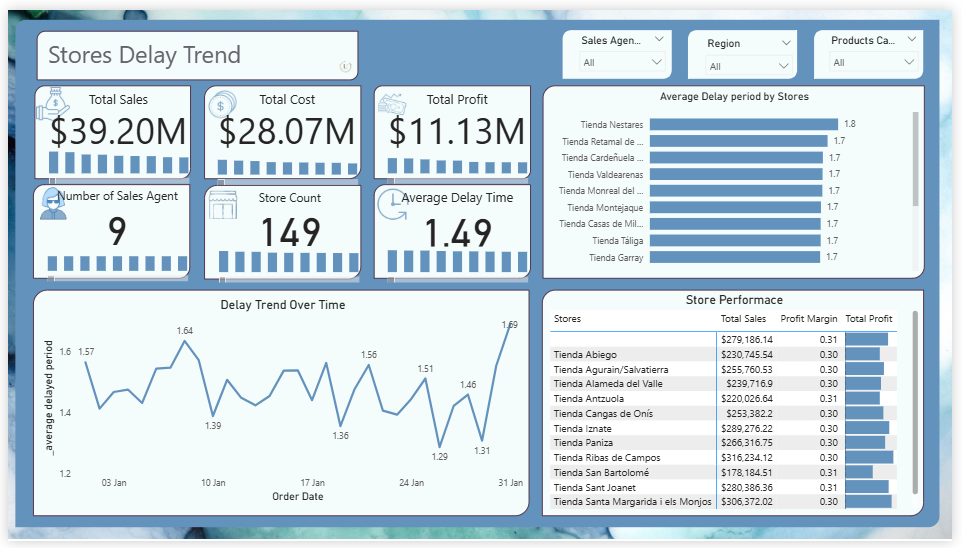

What the dashboard file says about the page in this screenshot:
{"tool":"powerbi","page":{"name":"3","canvas":[1280,720],"ordinal":2},"visuals":[{"type":"textbox","box":[49.5,31.7,427.1,59.1],"z":0},{"type":"card","title":"Total Sales","fields":{"Values":["Sales Tiendas San Martin Janu#4._total sales"]},"box":[49.5,107.7,201.5,83.2],"z":1000},{"type":"clusteredColumnChart","fields":{"Category":["Products.Products"],"Y":["Sales Tiendas San Martin Janu#4._total sales"]},"box":[50.7,177.7,200.3,62.7],"z":2000},{"type":"card","title":"Total Cost","fields":{"Values":["Sales Tiendas San Martin Janu#4._total cost"]},"box":[278.6,109,201.5,83.2],"z":3000},{"type":"clusteredColumnChart","fields":{"Category":["Products.Products"],"Y":["Sales Tiendas San Martin Janu#4._total cost"]},"box":[279.8,179,200.3,62.7],"z":4000},{"type":"card","title":"Number of Sales Agent","fields":{"Values":["Count(Sales Agents.Sales Agent Name)"]},"box":[47.9,240.3,201.5,83.2],"z":5000},{"type":"clusteredColumnChart","fields":{"Category":["Products.Products"],"Y":["Sales Tiendas San Martin Janu#4._profit margin"]},"box":[49.1,310.3,200.3,62.7],"z":6000},{"type":"card","title":"Store Count","fields":{"Values":["Count(Stores.Stores)"]},"box":[281.1,241.6,201.5,83.2],"z":7000},{"type":"clusteredColumnChart","fields":{"Category":["Products.Products"],"Y":["Sales Tiendas San Martin Janu#4._average delayed period"]},"box":[280.8,311.2,200.3,62.7],"z":8000},{"type":"card","title":"Total Profit","fields":{"Values":["Sales Tiendas San Martin Janu#4._total profit"]},"box":[508.3,108.1,201.5,83.2],"z":9000},{"type":"clusteredColumnChart","fields":{"Category":["Products.Products"],"Y":["Sales Tiendas San Martin Janu#4._total profit"]},"box":[509.5,178,200.3,62.7],"z":10000},{"type":"card","title":"Average Delay Time","fields":{"Values":["Sales Tiendas San Martin Janu#4._average delayed period"]},"box":[508.3,242.2,201.5,83.2],"z":11000},{"type":"clusteredColumnChart","fields":{"Category":["Products.Products"],"Y":["Sales Tiendas San Martin Janu#4._avg unit price"]},"box":[509.5,312.2,200.3,62.7],"z":12000},{"type":"slicer","fields":{"Values":["Products.Products Category"]},"box":[1103.9,26.9,141.2,63.9],"z":13000},{"type":"slicer","fields":{"Values":["Locations.Region"]},"box":[935,31.7,138.7,59.1],"z":14000},{"type":"slicer","fields":{"Values":["Sales Agents.Sales Agent Name"]},"box":[763.7,26.9,137.5,63.9],"z":15000},{"type":"lineChart","title":"Delay Trend Over Time","fields":{"Category":["Sales Tiendas San Martin Janu#4.Order Date"],"Y":["Sales Tiendas San Martin Janu#4._average delayed period"]},"box":[41.6,389.6,661,283.1],"z":16000},{"type":"pivotTable","title":"Store Performace","fields":{"Rows":["Stores.Stores"],"Values":["Sales Tiendas San Martin Janu#4._total sales","Sales Tiendas San Martin Janu#4._profit margin","Sales Tiendas San Martin Janu#4._total profit"]},"box":[729.9,383.1,509.1,298.7],"z":17000},{"type":"clusteredBarChart","title":"Average Delay period by Stores","fields":{"Category":["Stores.Stores"],"Y":["Sales Tiendas San Martin Janu#4._average delayed period"]},"box":[729.9,109.1,509.1,250.6],"z":18000},{"type":"card","fields":{"Values":["Customers._bottom customer name"]},"box":[263.6,311.7,300,300],"z":19000}]}

Visuals, with their boxes in screenshot pixels (x1, y1, x2, y2), scaled from the page's 1280x720 canvas onto the 962x548 screenshot:
textbox: x1=37 y1=24 x2=358 y2=69
"Total Sales" card: x1=37 y1=82 x2=189 y2=145
clusteredColumnChart - Products.Products x Sales Tiendas San Martin Janu#4._total sales: x1=38 y1=135 x2=189 y2=183
"Total Cost" card: x1=209 y1=83 x2=361 y2=146
clusteredColumnChart - Products.Products x Sales Tiendas San Martin Janu#4._total cost: x1=210 y1=136 x2=361 y2=184
"Number of Sales Agent" card: x1=36 y1=183 x2=187 y2=246
clusteredColumnChart - Products.Products x Sales Tiendas San Martin Janu#4._profit margin: x1=37 y1=236 x2=187 y2=284
"Store Count" card: x1=211 y1=184 x2=363 y2=247
clusteredColumnChart - Products.Products x Sales Tiendas San Martin Janu#4._average delayed period: x1=211 y1=237 x2=362 y2=285
"Total Profit" card: x1=382 y1=82 x2=533 y2=146
clusteredColumnChart - Products.Products x Sales Tiendas San Martin Janu#4._total profit: x1=383 y1=135 x2=533 y2=183
"Average Delay Time" card: x1=382 y1=184 x2=533 y2=248
clusteredColumnChart - Products.Products x Sales Tiendas San Martin Janu#4._avg unit price: x1=383 y1=238 x2=533 y2=285
slicer - Products.Products Category: x1=830 y1=20 x2=936 y2=69
slicer - Locations.Region: x1=703 y1=24 x2=807 y2=69
slicer - Sales Agents.Sales Agent Name: x1=574 y1=20 x2=677 y2=69
"Delay Trend Over Time" lineChart: x1=31 y1=297 x2=528 y2=512
"Store Performace" pivotTable: x1=549 y1=292 x2=931 y2=519
"Average Delay period by Stores" clusteredBarChart: x1=549 y1=83 x2=931 y2=274
card - Customers._bottom customer name: x1=198 y1=237 x2=424 y2=466
